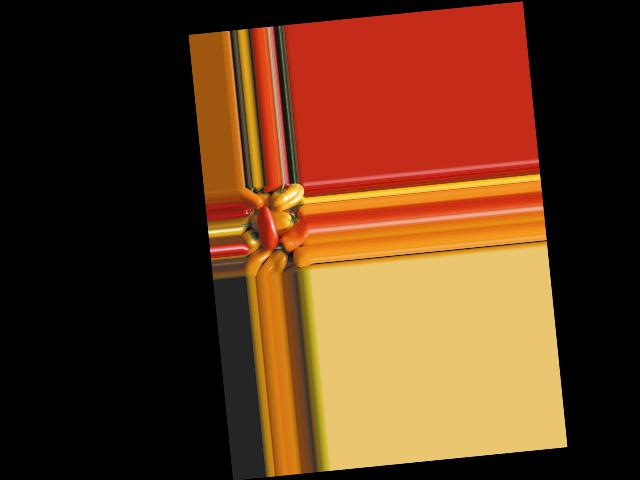bell_pepper: (271, 182, 304, 213)
